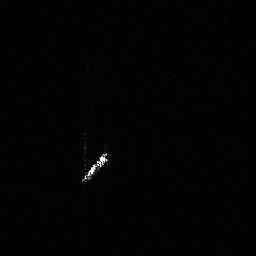ship: (77, 148, 113, 185)
